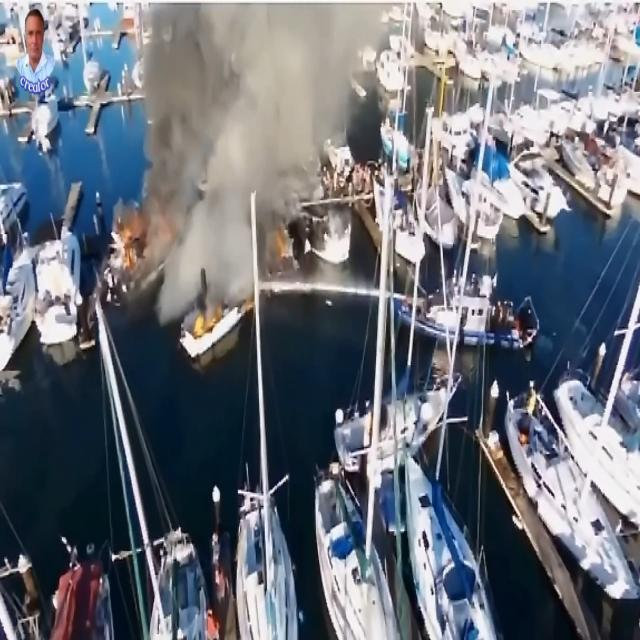Smoke: (175, 0, 315, 180)
